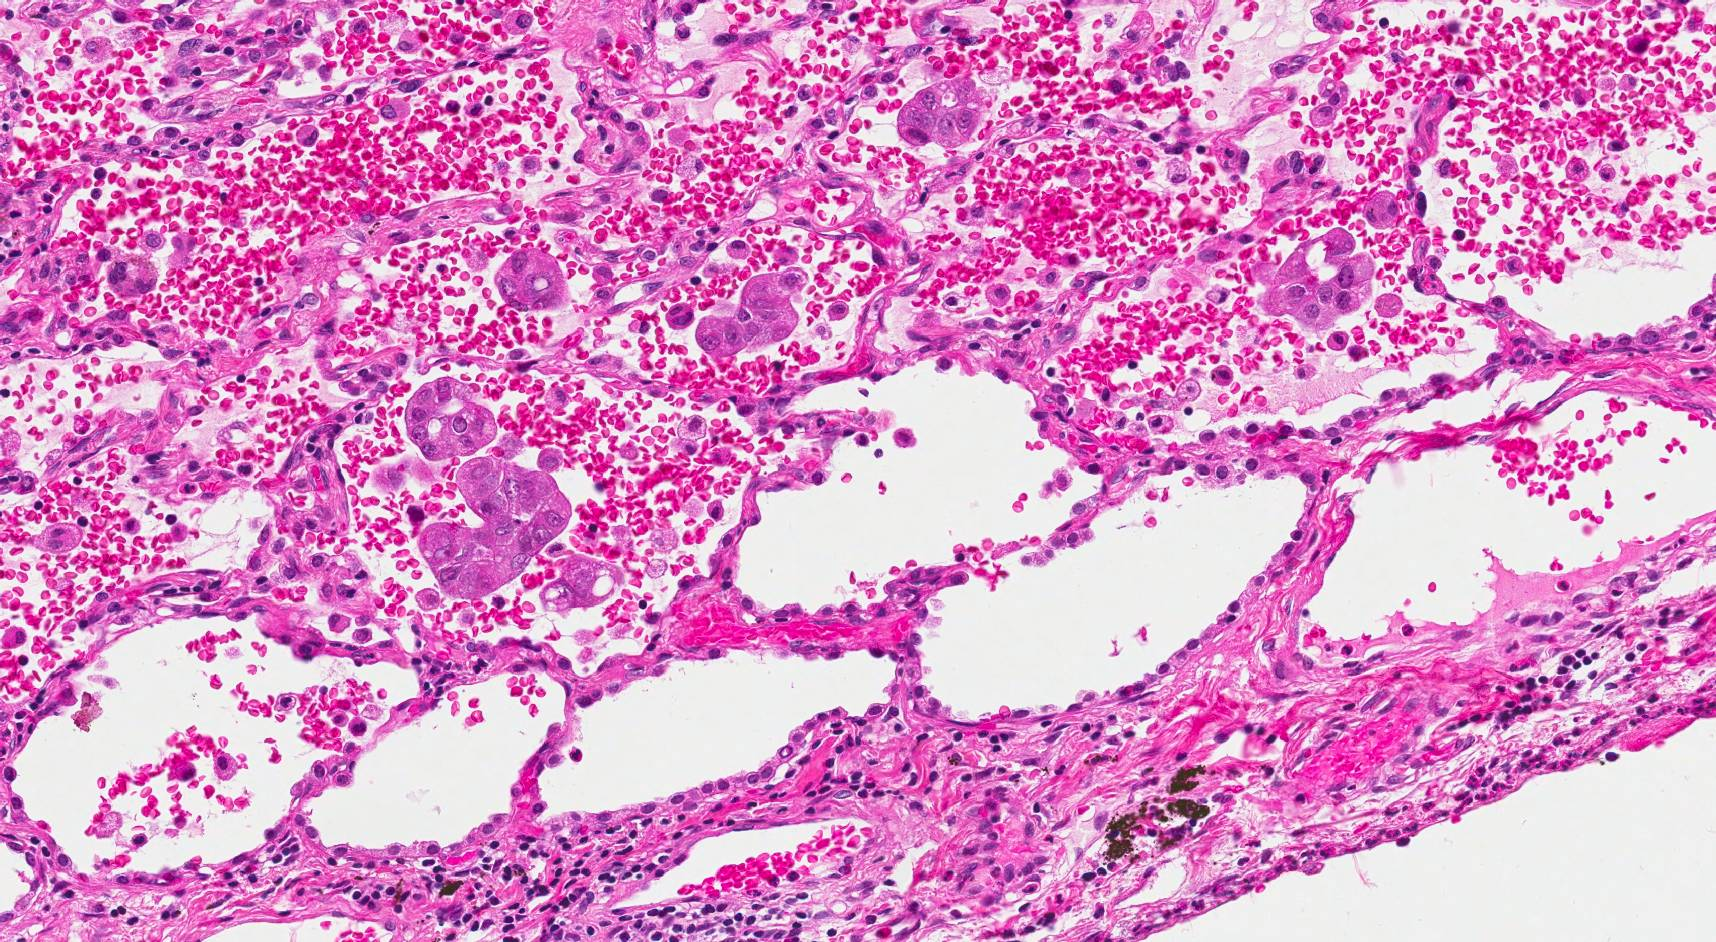stas: (419, 451, 572, 599), (1261, 227, 1377, 331), (694, 265, 808, 357), (402, 374, 495, 461), (894, 74, 991, 149), (538, 554, 628, 614), (493, 247, 572, 312)
